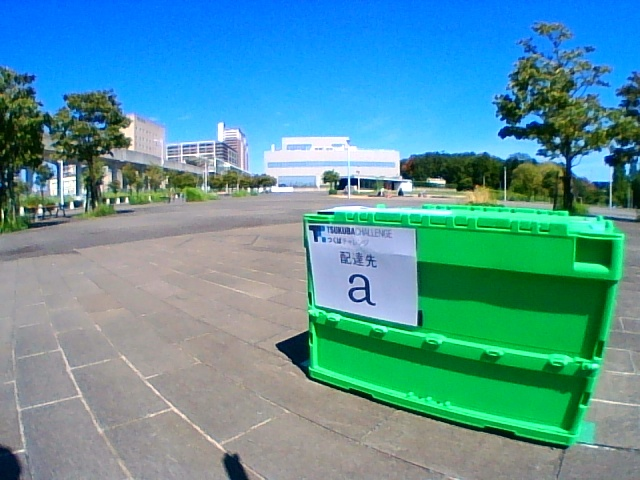green_box: (303, 205, 625, 447)
tag_a: (317, 228, 416, 308)
